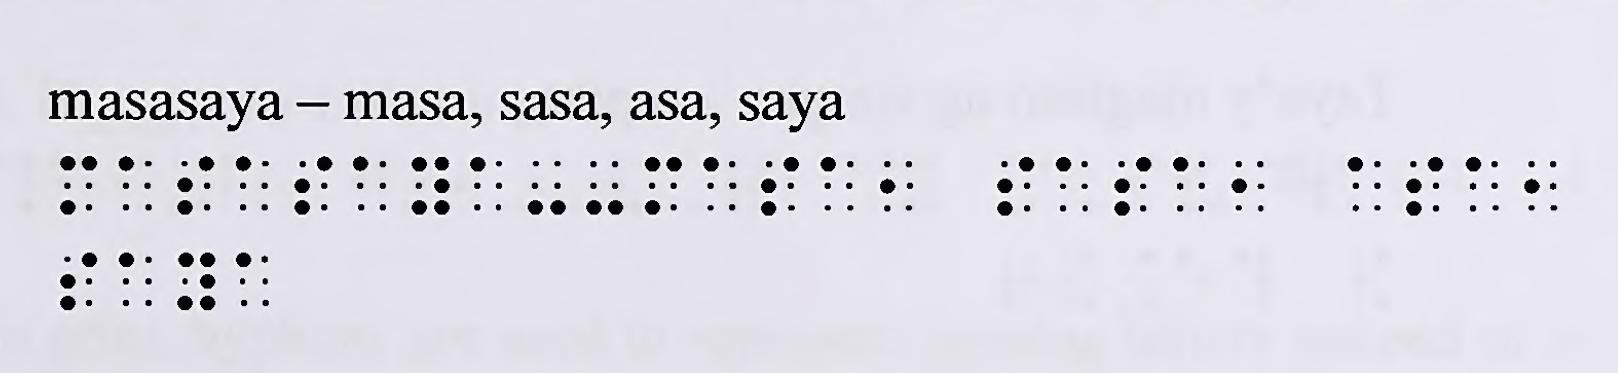a: (1464, 157, 1502, 217), (1347, 156, 1386, 213), (819, 154, 855, 213), (234, 252, 270, 311), (353, 154, 390, 211), (119, 156, 154, 216), (468, 156, 504, 215), (1057, 157, 1092, 215), (120, 253, 156, 309), (235, 157, 271, 210), (705, 154, 737, 213), (1173, 156, 1205, 211)
m: (61, 153, 98, 215), (645, 154, 680, 216)
s: (1405, 157, 1445, 218), (293, 157, 333, 215), (59, 253, 98, 312), (997, 157, 1033, 218), (1114, 157, 1152, 216), (762, 156, 798, 215), (177, 157, 213, 215)
y: (177, 250, 217, 310), (411, 157, 450, 216)
